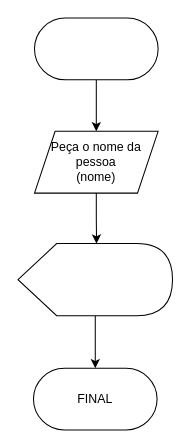
This 191x448 diagram has some shape labels left out. The shapes that lost their labels are listed below. From the top down, each one's box as (x1, y1, x2, y2) in pixels, then its label:
(33, 17, 158, 80): INICIO
(17, 243, 173, 316): Exiba Olá, (nome)!
